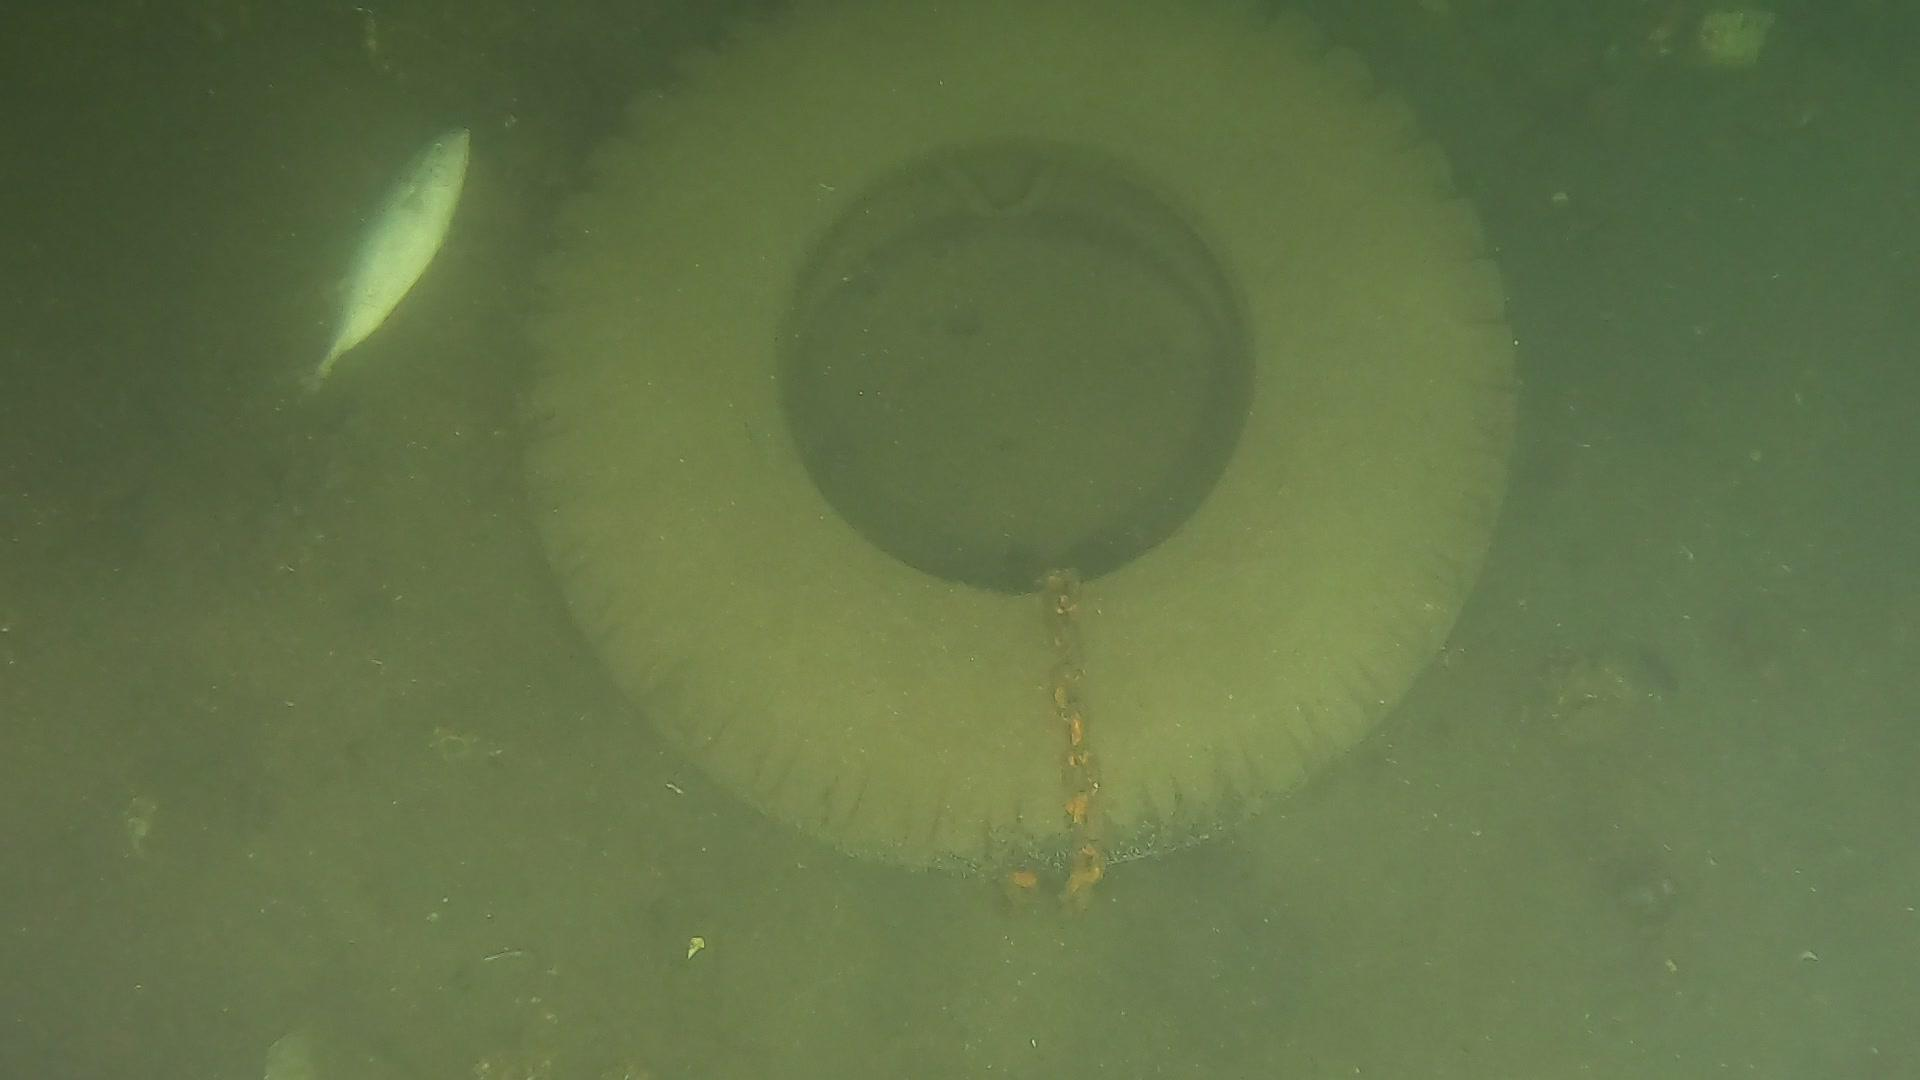tire: (516, 0, 1524, 877)
